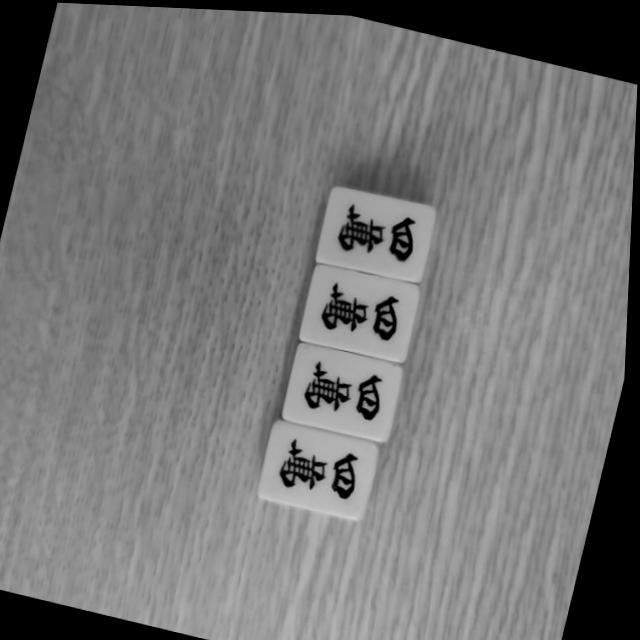sc4: (325, 187, 432, 271), (312, 269, 418, 352), (272, 426, 376, 510), (295, 349, 398, 430)
